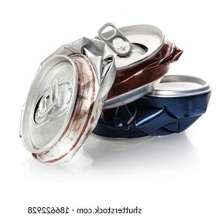can: (16, 35, 118, 171), (79, 13, 185, 111), (97, 69, 214, 141)
